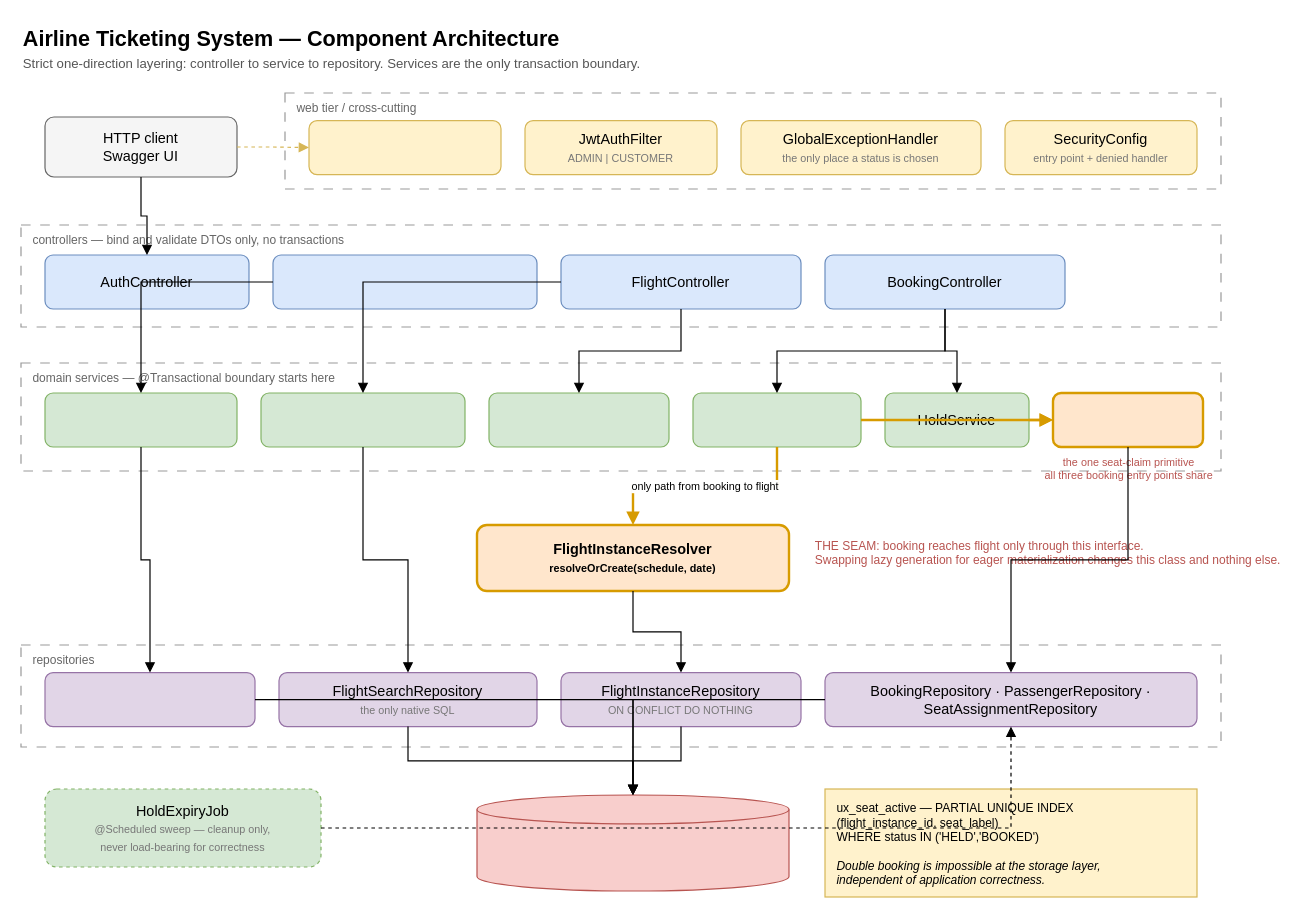
The diagram is 1302 pixels wide and 918 high, and some of its shapes have lost their labels. Each missing label, with the centre of its shape:
AdminScheduleController: pixel 404 281
BookingService: pixel 776 419
FlightSearchService: pixel 362 419
PostgreSQL 16: pixel 632 842
RequestIdFilter MDC request id: pixel 404 147
ScheduleRepository: pixel 149 699
ScheduleService: pixel 140 419
SeatClaimService: pixel 1127 419
SeatMapService: pixel 578 419
